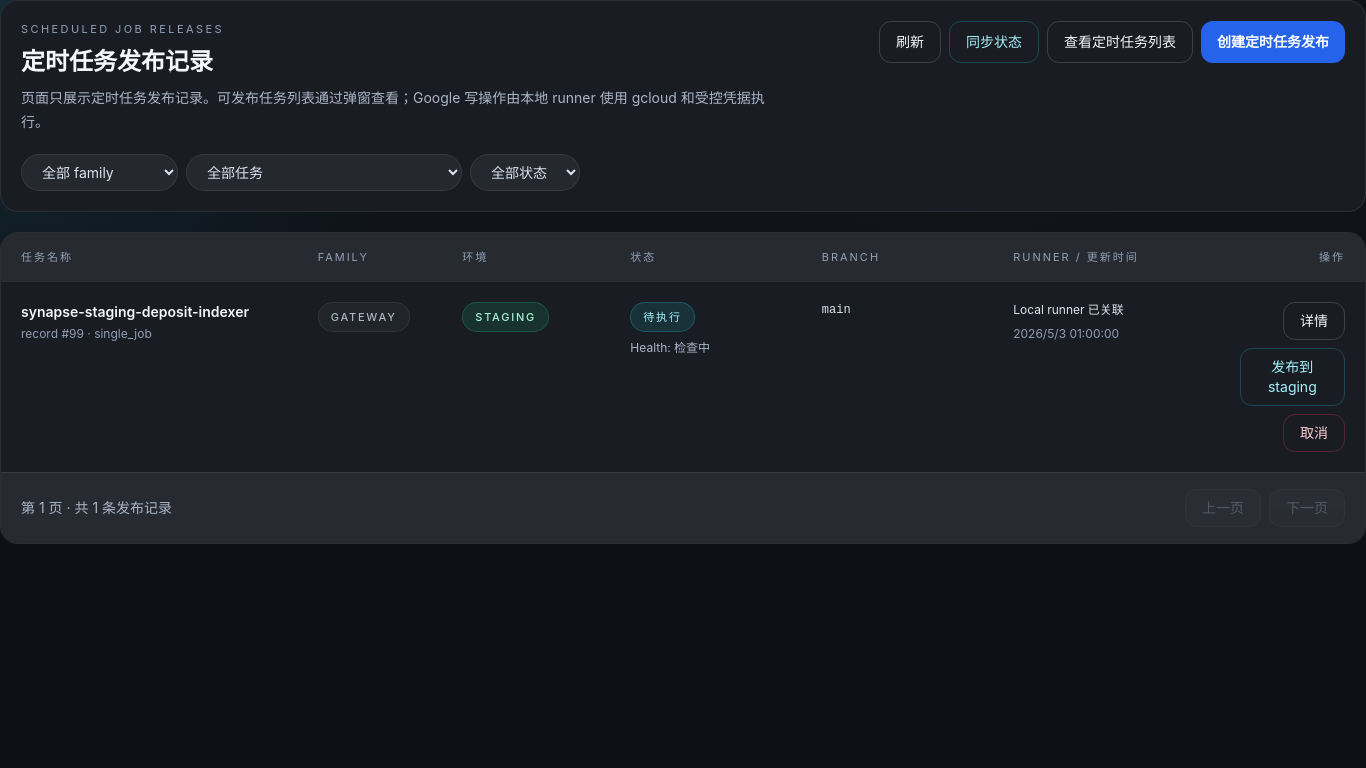
Test case: ScheduledJobsPanel › prefills the single-job form from a row and requires migration confirmation
Check: the heading "定时任务发布记录" is shown, box 21,46 -> 213,76
Click the button "查看定时任务列表" at (1120, 42), box 1047,21 -> 1193,63
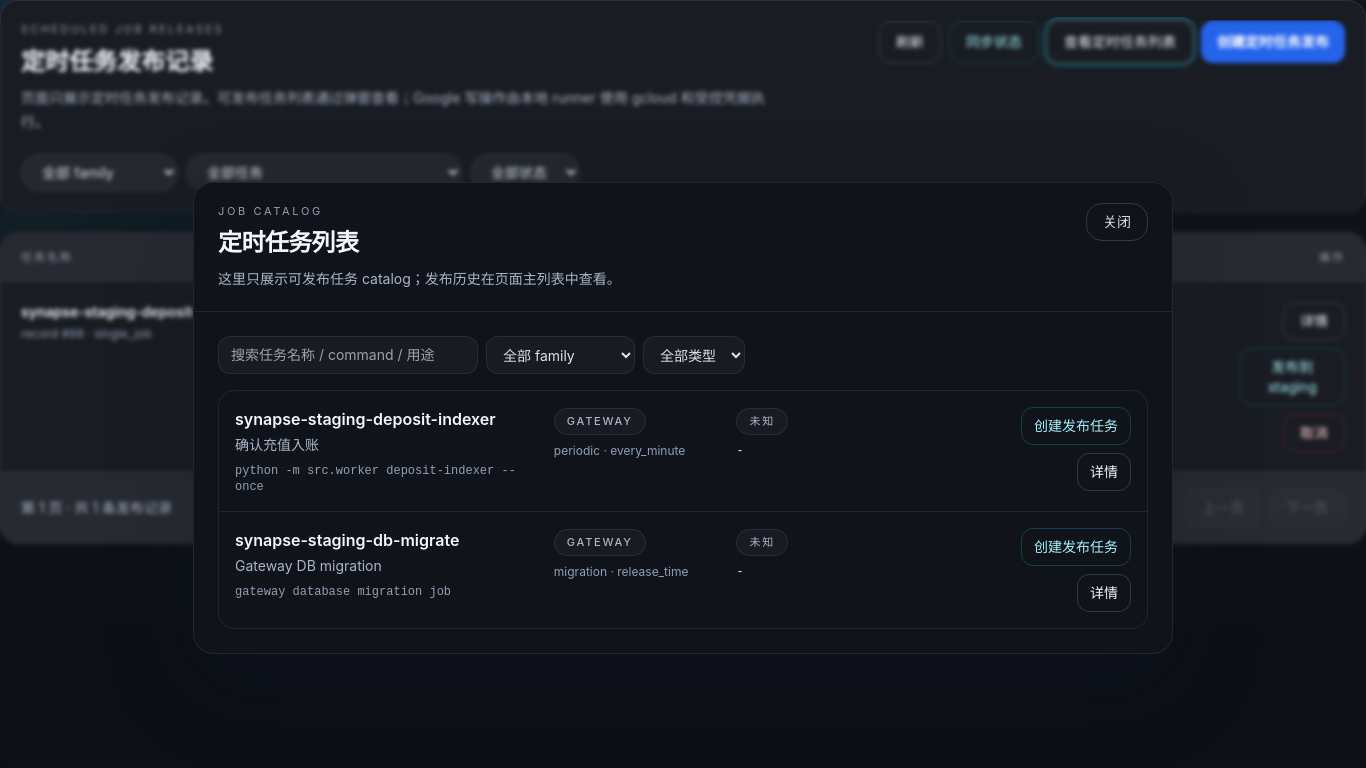
Click the button "创建发布任务" in the row of "release_time" at (1076, 547), box 1021,528 -> 1131,566
(page scrolled)
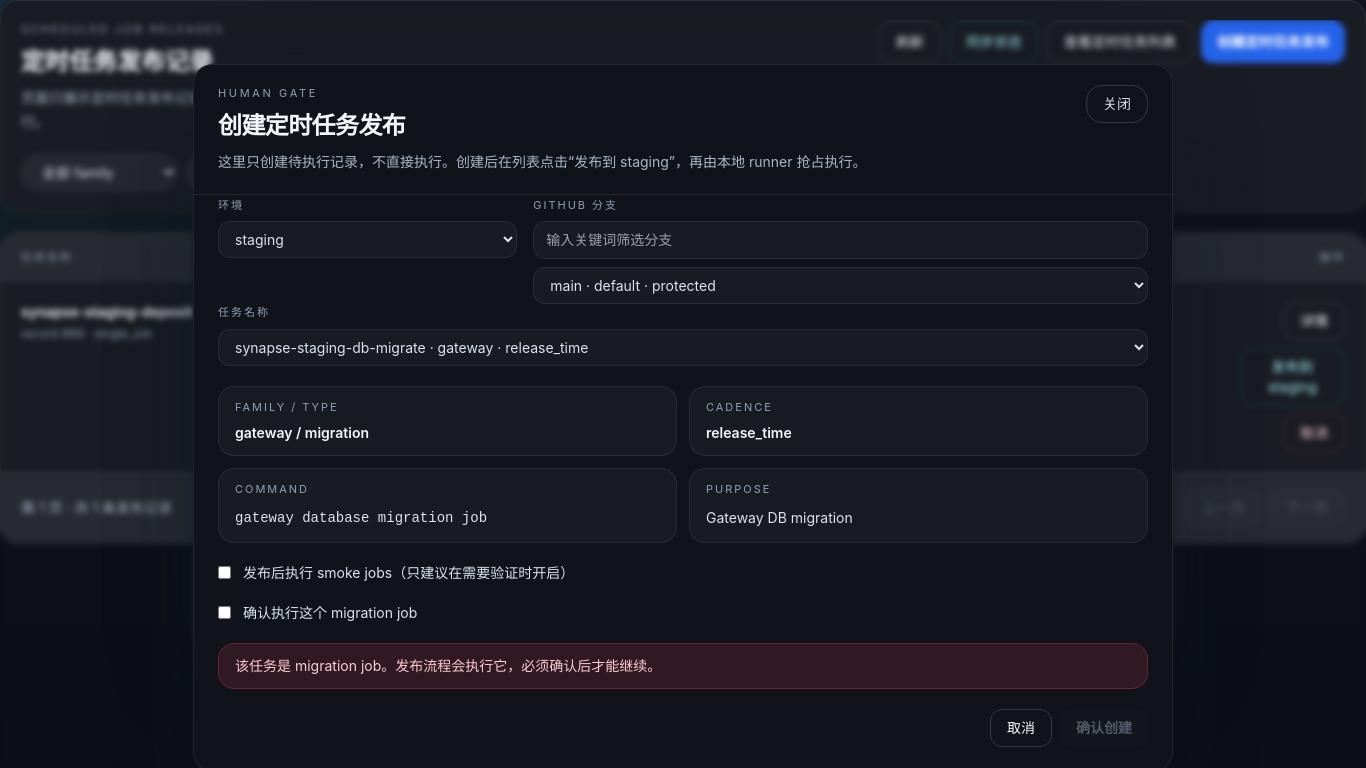
Check: the dropdown labelled "任务名称" shows "synapse-staging-db-migrate · gateway · release_time", box 218,329 -> 1148,366
Check: the text "该任务是 migration job。发布流程会执行它，必须确认后才能继续。" is shown, box 218,643 -> 1148,689
Check: the button "确认创建" is disabled, box 1060,709 -> 1148,747
